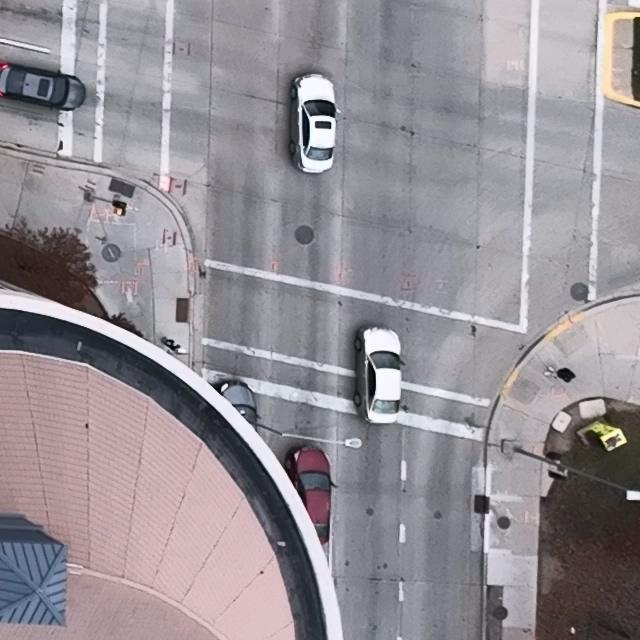car: (284, 445, 339, 544), (289, 72, 341, 174), (354, 326, 407, 425), (0, 63, 85, 110), (218, 381, 261, 432)
